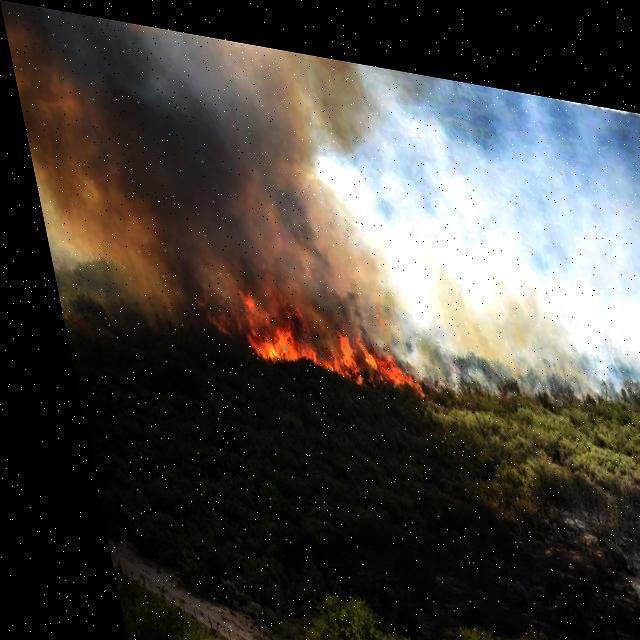Fire: (204, 265, 417, 386)
